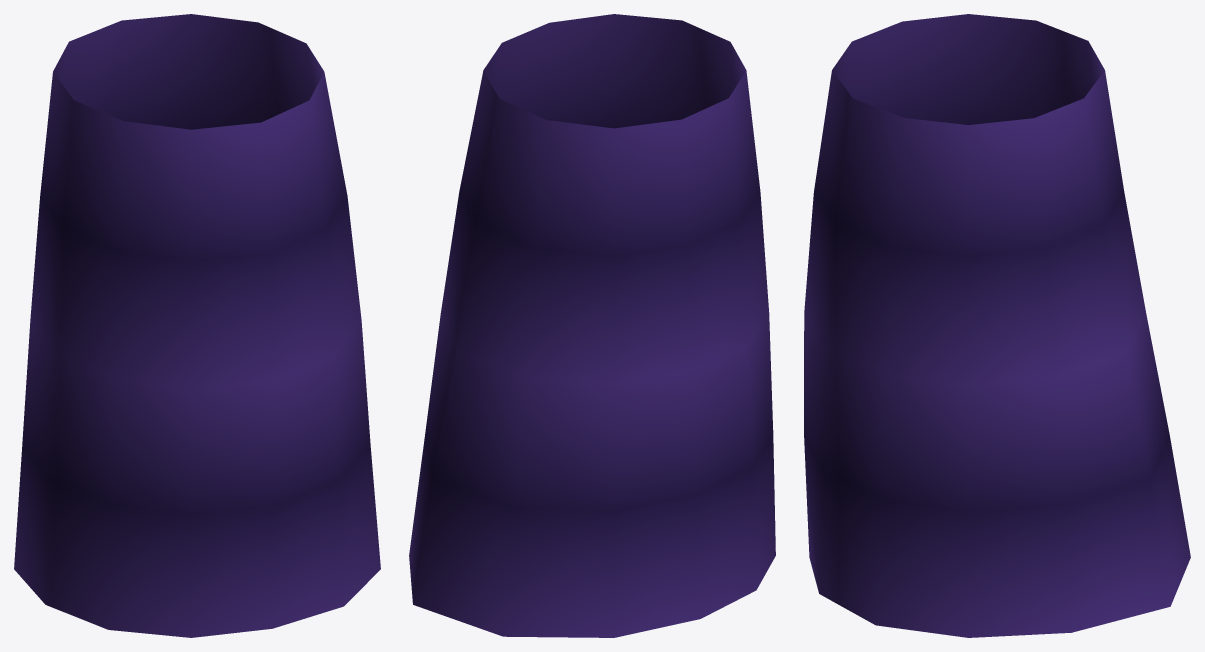
Rendered from beetle_armor_cuisse.L.glb.
3 renders of one model, left to right at view 1: azimuth 30°, elevation 25°; view 2: azimuth 150°, elevation 25°; view 3: azimuth 270°, elevation 25°, orthographic. The views are drawn at different scales.
Visible parts, largest first — view 1: beetle_armor_cuisse.L; view 2: beetle_armor_cuisse.L; view 3: beetle_armor_cuisse.L.
Part boxes in pixels (left/top/right/bottom): beetle_armor_cuisse.L: left=14, top=14, right=380, bottom=637; beetle_armor_cuisse.L: left=409, top=14, right=775, bottom=637; beetle_armor_cuisse.L: left=804, top=14, right=1190, bottom=637.
Bounding box in the file's own units: 0.2446 × 0.37 × 0.2662.
